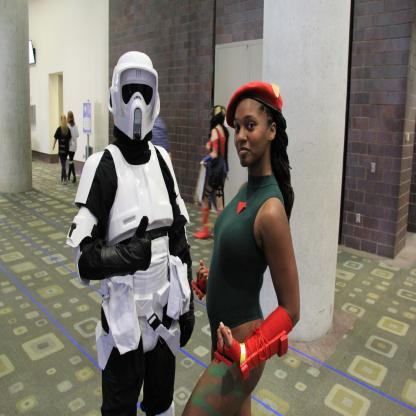Helmet: (104, 48, 160, 157), (212, 104, 226, 128)
